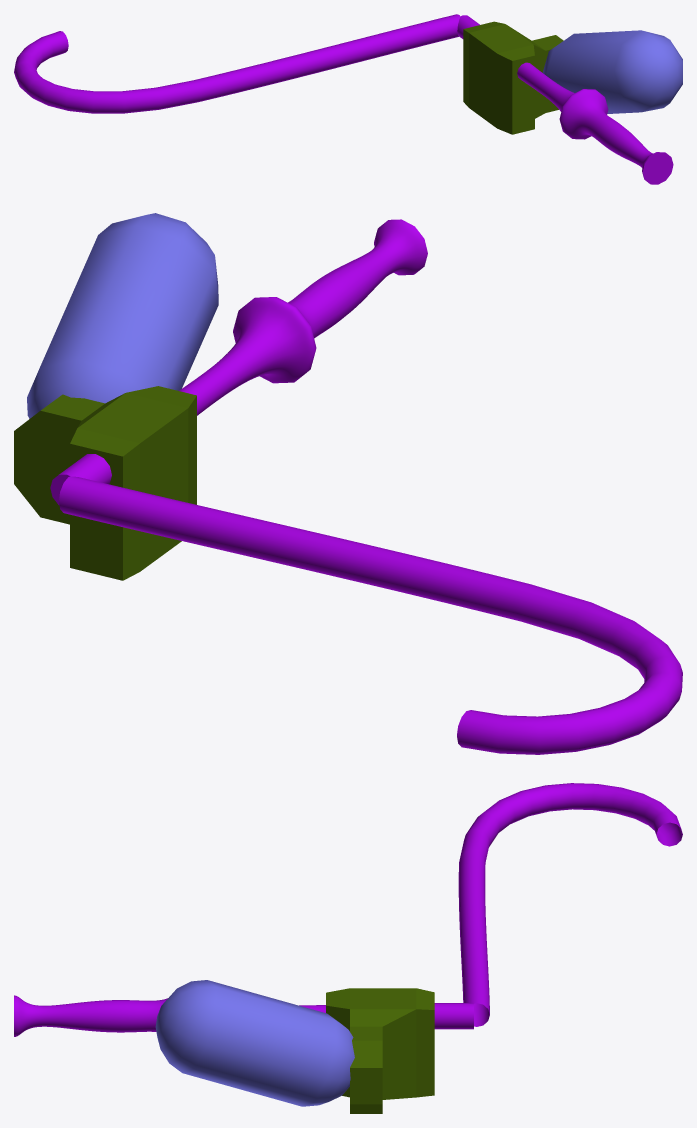
File: Inkroller.fbx
3 views of the same model, one above another, from view 1: azimuth 30°, elevation 25°; view 2: azimuth 150°, elevation 25°; view 3: azimuth 270°, elevation 25° (orthographic). The views are drawn at different scales.
Parts seen in each view (by area): view 1: Handle, RollerFrame; view 2: Handle, RollerFrame; view 3: Handle, RollerFrame.
Boxes of the visible parts, <box> form: Handle: <box>457,15,682,184</box>; RollerFrame: <box>14,14,460,113</box>; Handle: <box>14,213,427,580</box>; RollerFrame: <box>59,476,682,754</box>; Handle: <box>14,980,473,1113</box>; RollerFrame: <box>458,783,682,1026</box>.
Size of the model in its own units: 40.63 by 9.33 by 40.4.
